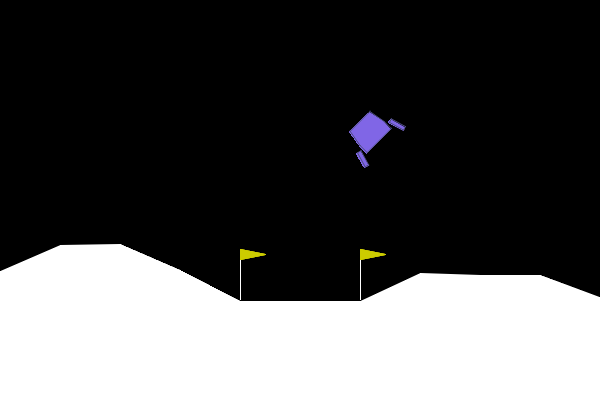lander: (337, 99, 408, 170)
